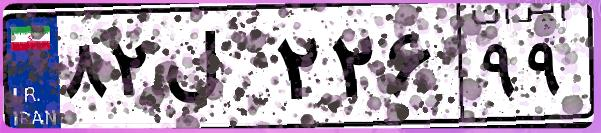2: (270, 28, 330, 110), (330, 28, 385, 110), (110, 28, 158, 98)
6: (385, 28, 445, 110)
8: (57, 26, 110, 100)
9: (475, 38, 525, 113), (525, 38, 570, 115)
ل: (158, 20, 270, 120)
